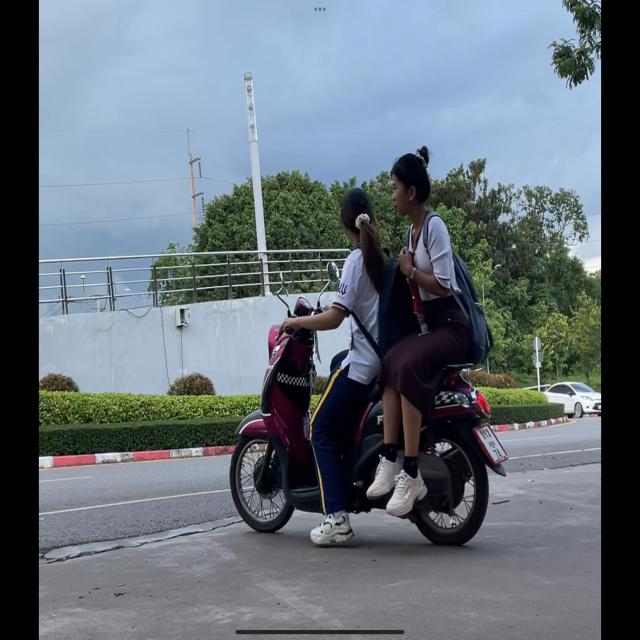seatbelt: (388, 144, 434, 218), (338, 187, 378, 247)
